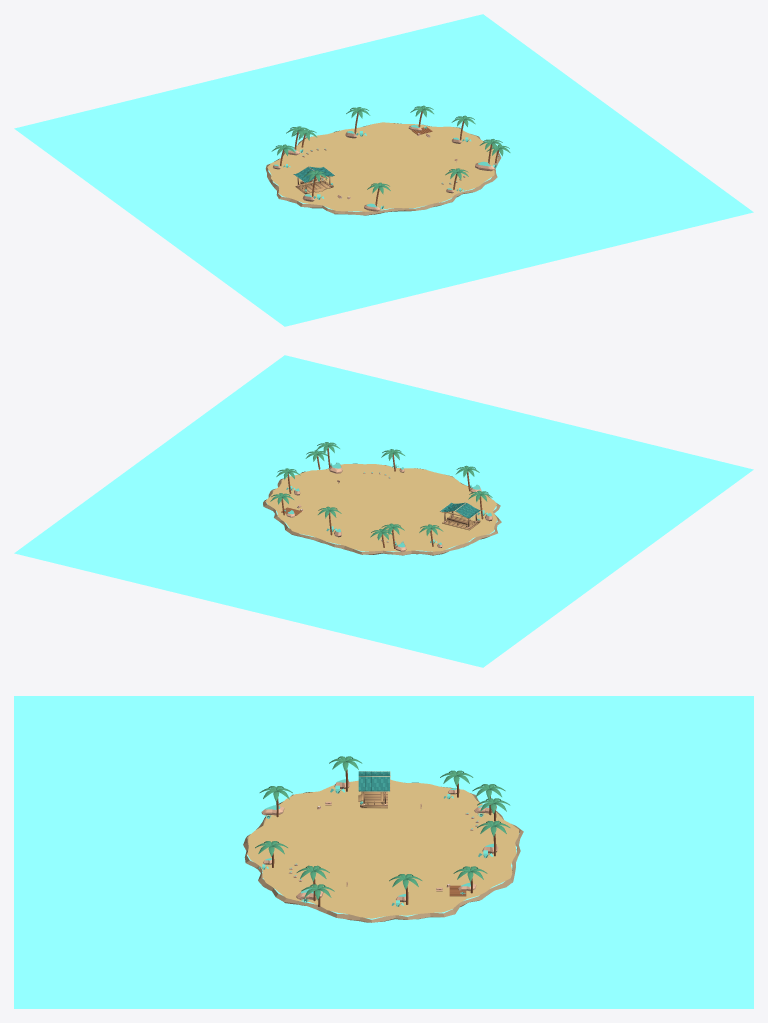
Rendered from beach.glb.
The picture shows the model from 3 angles, top to bottom: view 1: azimuth 30°, elevation 25°; view 2: azimuth 150°, elevation 25°; view 3: azimuth 270°, elevation 25°; orthographic projection. The views are drawn at different scales.
Visible parts, largest first — view 1: Water_beach.006, Surface_beach.006, Scenery_beach.006; view 2: Water_beach.006, Surface_beach.006, Scenery_beach.006; view 3: Water_beach.006, Surface_beach.006, Scenery_beach.006.
Boxes of the visible parts, box(x1,y1,x2,y2) form: Water_beach.006: box(14, 14, 753, 326); Surface_beach.006: box(265, 122, 501, 215); Scenery_beach.006: box(271, 105, 510, 211); Water_beach.006: box(14, 355, 753, 667); Surface_beach.006: box(263, 463, 501, 555); Scenery_beach.006: box(270, 442, 492, 551); Water_beach.006: box(14, 696, 753, 1008); Surface_beach.006: box(243, 779, 523, 922); Scenery_beach.006: box(255, 756, 510, 906).
Size of the model in its own units: 160 by 16.34 by 160.
